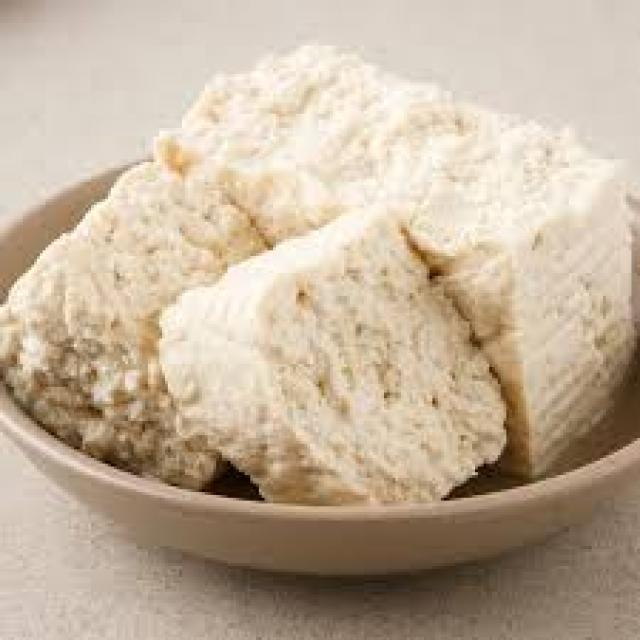tofu: (51, 50, 634, 521)
